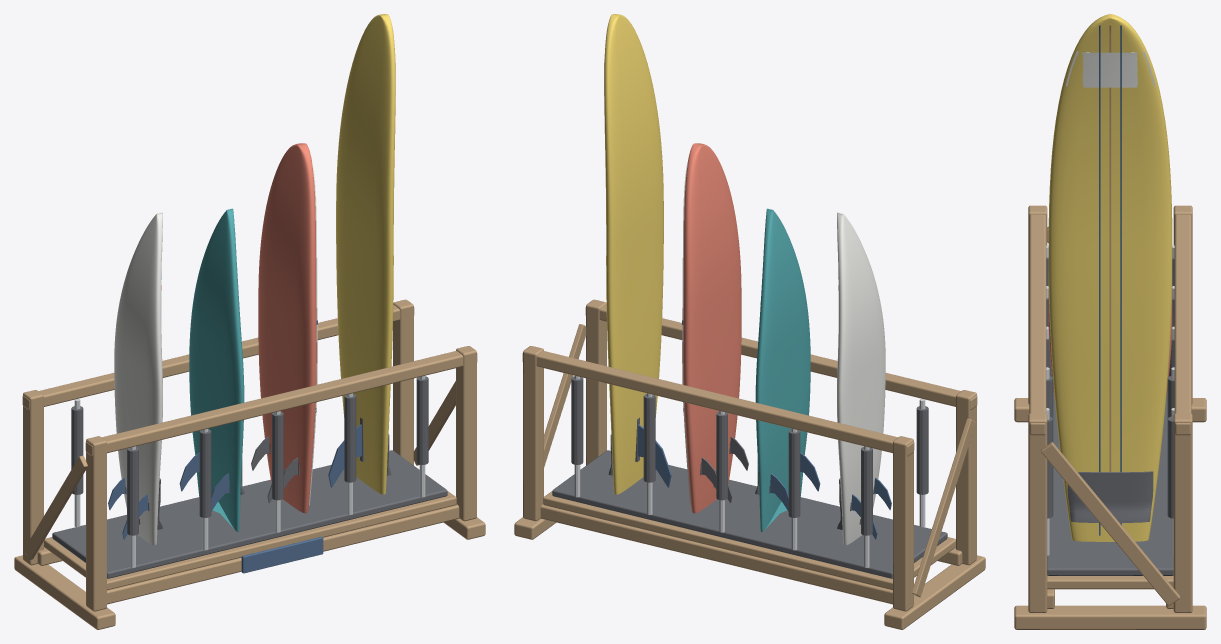
File: beach-surf-and-paddle-kit-stocked-surfboard-rack-59834705.glb
3 renders of one model, left to right at view 1: azimuth 30°, elevation 25°; view 2: azimuth 150°, elevation 25°; view 3: azimuth 270°, elevation 25°, orthographic. The views are drawn at different scales.
Parts seen in each view (by area): view 1: stocked-surfboard-rack-timber, stocked-surfboard-rack-sun, stocked-surfboard-rack-charcoal, stocked-surfboard-rack-coral, stocked-surfboard-rack-teal, stocked-surfboard-rack-foam, stocked-surfboard-rack-navy, stocked-surfboard-rack-steel; view 2: stocked-surfboard-rack-timber, stocked-surfboard-rack-sun, stocked-surfboard-rack-charcoal, stocked-surfboard-rack-coral, stocked-surfboard-rack-teal, stocked-surfboard-rack-foam, stocked-surfboard-rack-navy, stocked-surfboard-rack-steel; view 3: stocked-surfboard-rack-sun, stocked-surfboard-rack-timber, stocked-surfboard-rack-charcoal, stocked-surfboard-rack-foam, stocked-surfboard-rack-navy, stocked-surfboard-rack-steel, stocked-surfboard-rack-coral.
Part boxes in pixels (x1,y1,x2,y2): stocked-surfboard-rack-timber: (14,299,485,629); stocked-surfboard-rack-sun: (336,14,395,494); stocked-surfboard-rack-charcoal: (52,376,447,578); stocked-surfboard-rack-coral: (161,143,316,513); stocked-surfboard-rack-teal: (161,208,244,531); stocked-surfboard-rack-foam: (114,59,395,545); stocked-surfboard-rack-navy: (108,320,361,573); stocked-surfboard-rack-steel: (74,376,425,567); stocked-surfboard-rack-timber: (514,299,985,629); stocked-surfboard-rack-sun: (604,14,663,494); stocked-surfboard-rack-charcoal: (552,376,947,578); stocked-surfboard-rack-coral: (683,143,838,513); stocked-surfboard-rack-teal: (755,208,838,531); stocked-surfboard-rack-foam: (604,59,885,545); stocked-surfboard-rack-navy: (638,320,891,539); stocked-surfboard-rack-steel: (574,376,925,567); stocked-surfboard-rack-sun: (1048,14,1172,541); stocked-surfboard-rack-timber: (1014,25,1206,629); stocked-surfboard-rack-charcoal: (1046,257,1174,575); stocked-surfboard-rack-foam: (1065,51,1155,87); stocked-surfboard-rack-navy: (1099,25,1121,535); stocked-surfboard-rack-steel: (1046,245,1174,555); stocked-surfboard-rack-coral: (1048,290,1172,399).
Size of the model in its own units: 2.44 by 3 by 0.9002.
